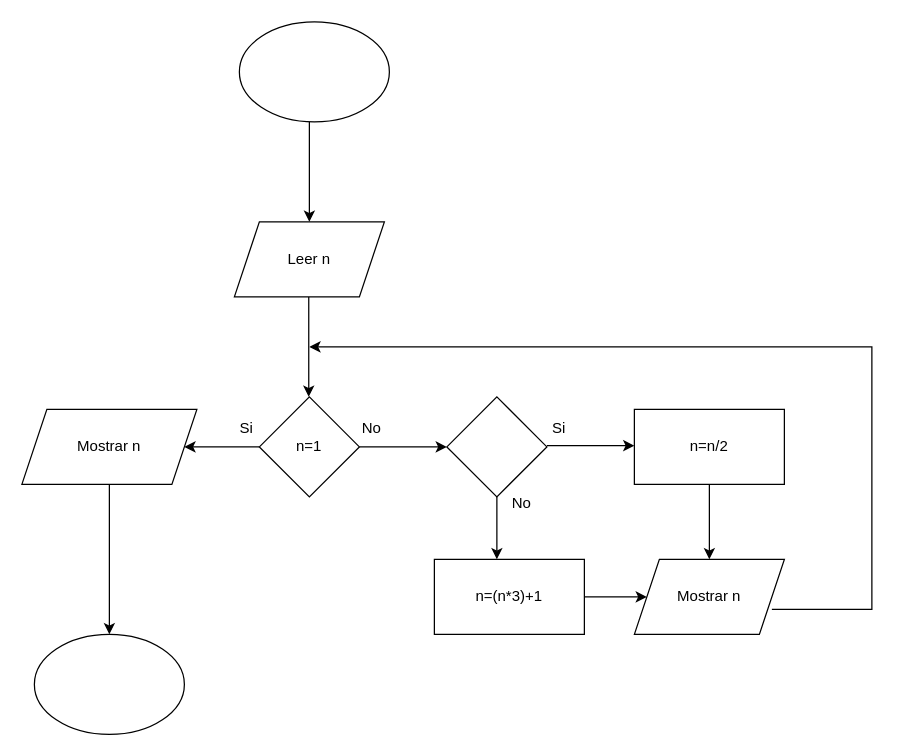
The diagram is 904 pixels wide and 756 high, and some of its shapes have lost their labels. The shapes that lost their labels are listed below. From the top down, each one's centre as x and y in pixels, then its label:
(313,71): Inicio
(496,446): n%2=0
(108,683): Fin
